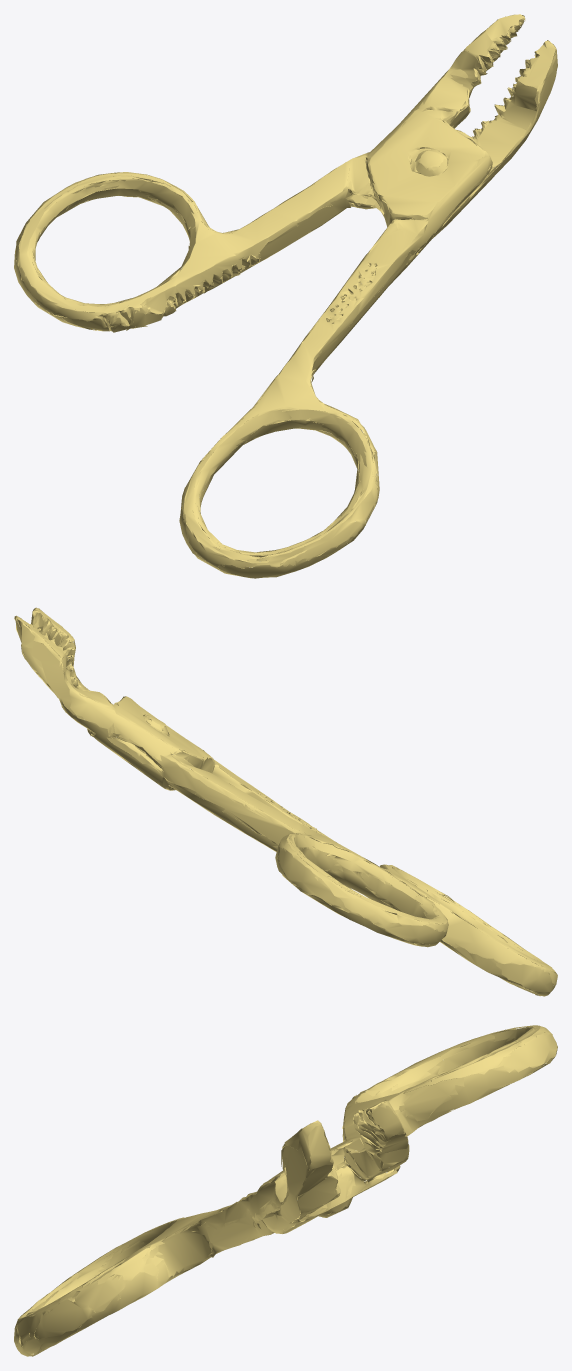
The model's file is equip_ent_laryngeal_biopsy_f.glb.
3 views of the same model, one above another, from view 1: azimuth 30°, elevation 25°; view 2: azimuth 150°, elevation 25°; view 3: azimuth 270°, elevation 25° (orthographic). The views are drawn at different scales.
Visible parts, largest first — view 1: world; view 2: world; view 3: world.
Boxes of the visible parts, left/top/right/bottom form: world: left=14, top=14, right=557, bottom=578; world: left=14, top=607, right=557, bottom=996; world: left=14, top=1025, right=557, bottom=1356.
Size of the model in its own units: 0.1803 by 0.1356 by 0.1427.
